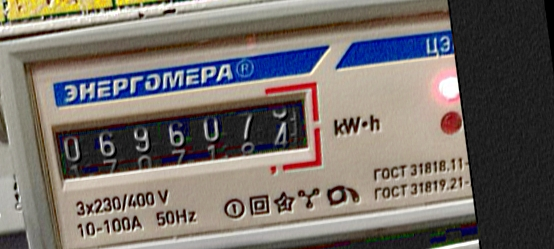0: (59, 131, 84, 163), (200, 112, 222, 143)
4: (268, 118, 291, 149)
6: (164, 116, 188, 150), (95, 126, 117, 158)
7: (234, 106, 256, 139)
9: (130, 122, 153, 153)
screen: (38, 74, 331, 201)
